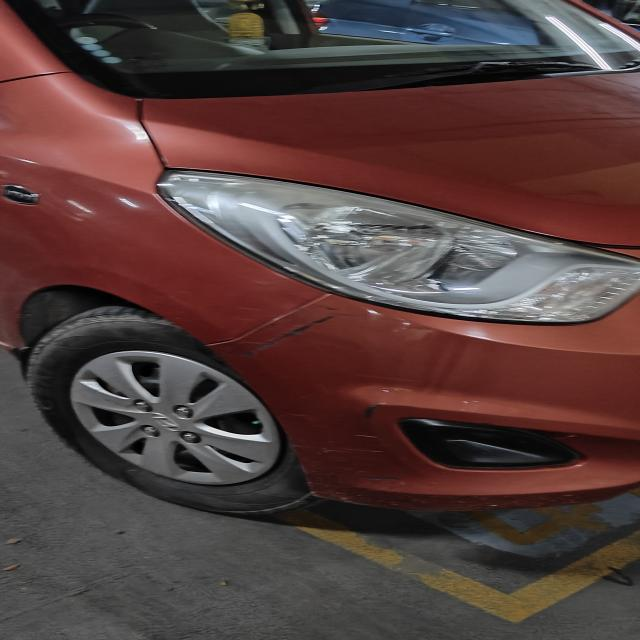scratch: (232, 304, 366, 356), (340, 403, 404, 488)
